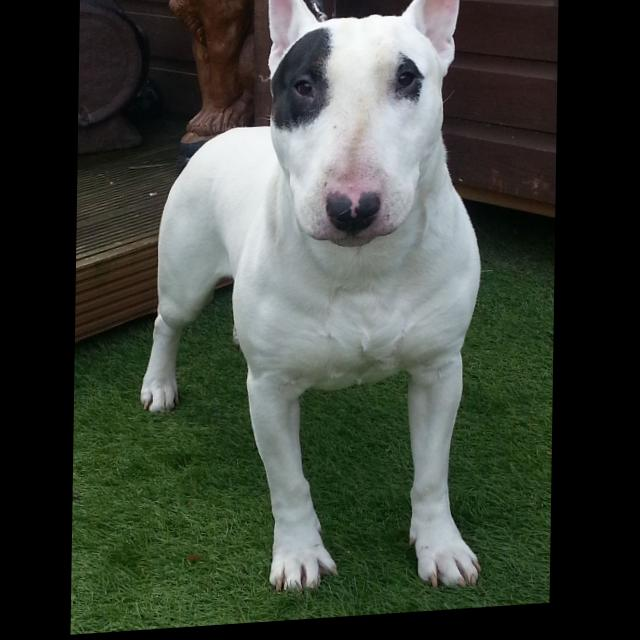bullterrier: (140, 1, 493, 613)
